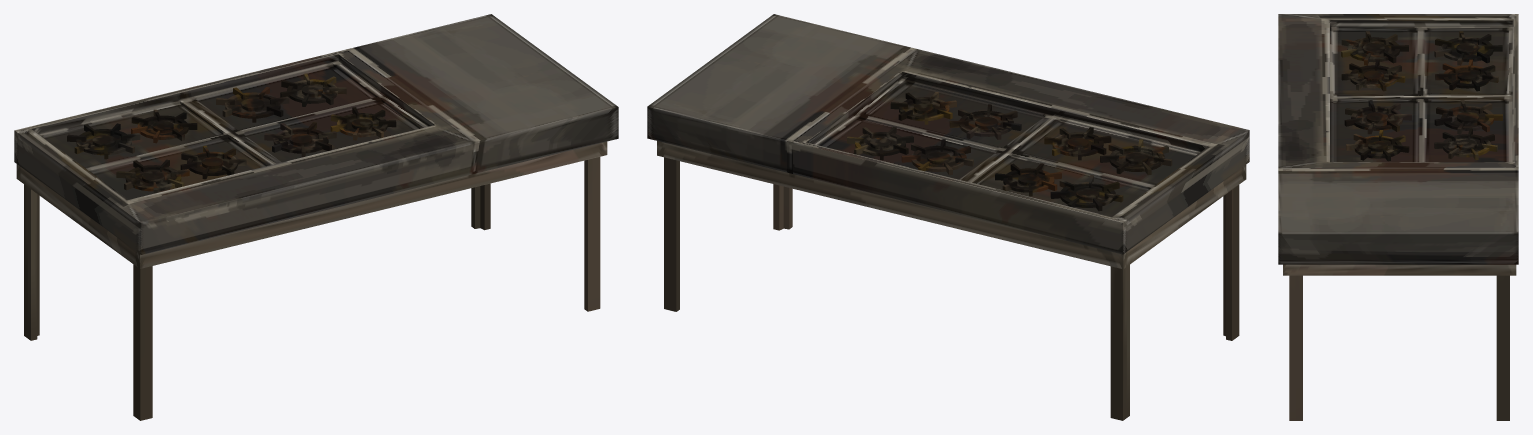
Rendered from SM_Stove.fbx.
The picture shows the model from 3 angles, left to right: view 1: azimuth 30°, elevation 25°; view 2: azimuth 150°, elevation 25°; view 3: azimuth 270°, elevation 25°; orthographic projection. The views are drawn at different scales.
Visible parts, largest first — view 1: SM_grill; view 2: SM_grill; view 3: SM_grill.
Part boxes in pixels (left/top/right/bottom): SM_grill: left=14, top=14, right=618, bottom=420; SM_grill: left=647, top=14, right=1249, bottom=420; SM_grill: left=1278, top=14, right=1518, bottom=420.
Bounding box in the file's own units: 213 × 86.58 × 98.1.
